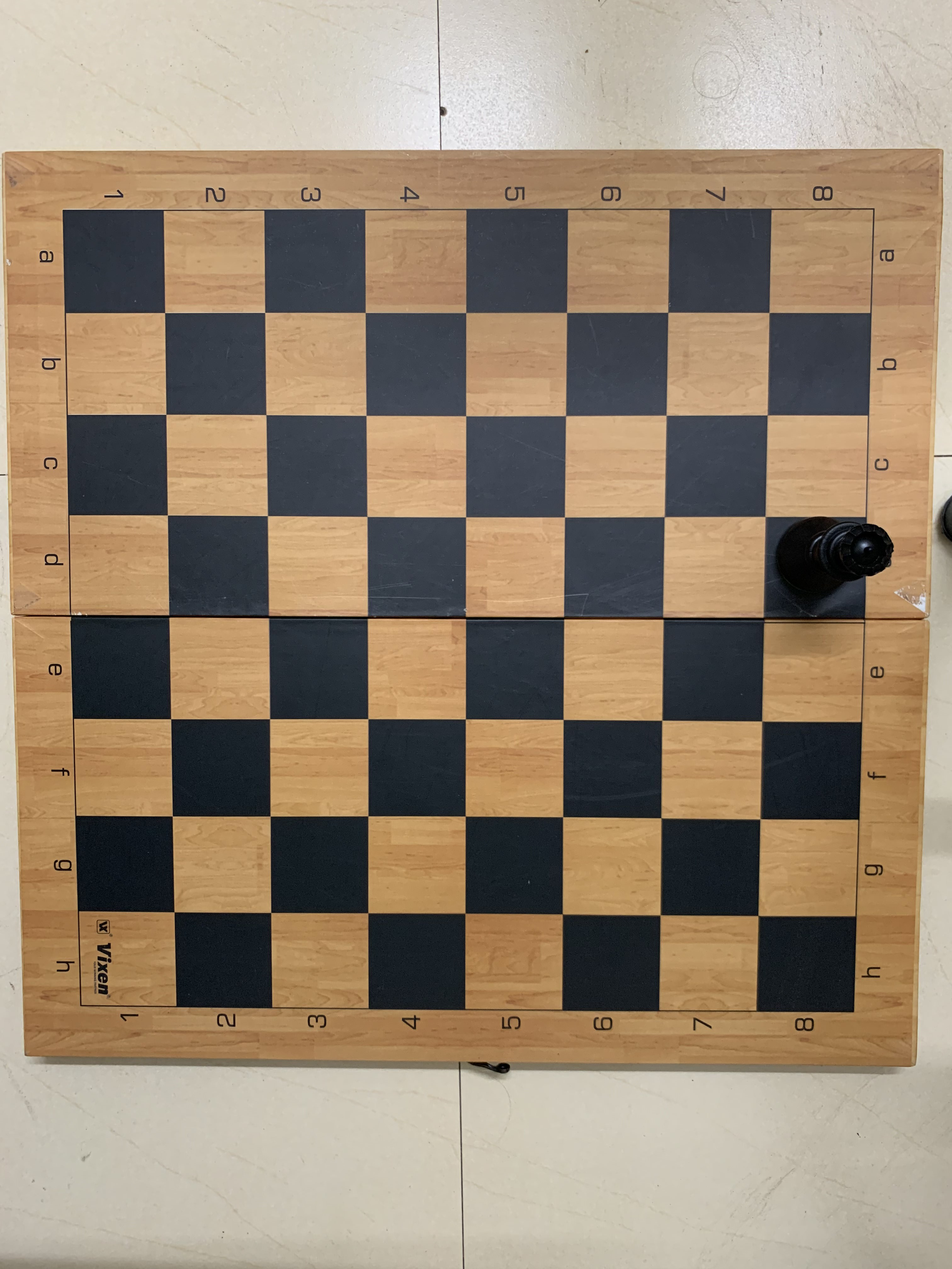black_queen: (756, 507, 905, 620)
